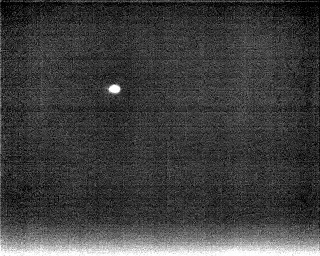AIRPLANE: (106, 81, 123, 97)
